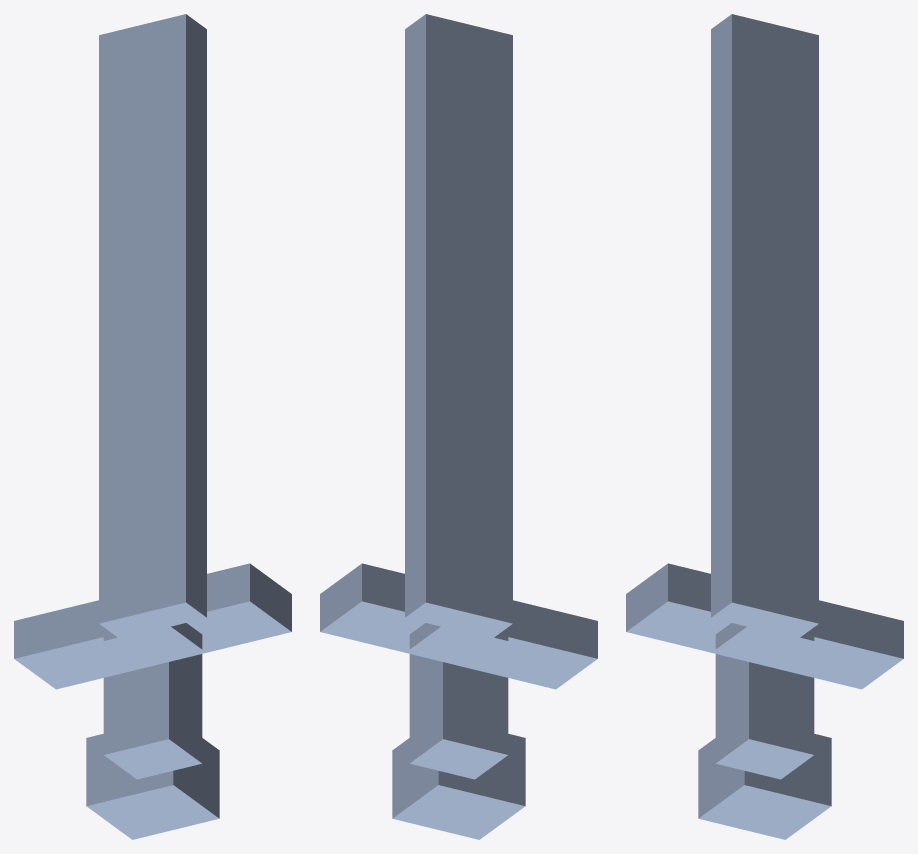
Rendered from sword.gltf.
3 renders of one model, left to right at view 1: azimuth 30°, elevation 25°; view 2: azimuth 150°, elevation 25°; view 3: azimuth 330°, elevation 25°, orthographic.
Visible parts, largest first — view 1: Sword; view 2: Sword; view 3: Sword.
Part boxes in pixels (x1,y1,x2,y2): Sword: [14, 14, 291, 839]; Sword: [320, 14, 597, 839]; Sword: [626, 14, 903, 839].
Bounding box in the file's own units: 0.65 × 2.06 × 0.22.
